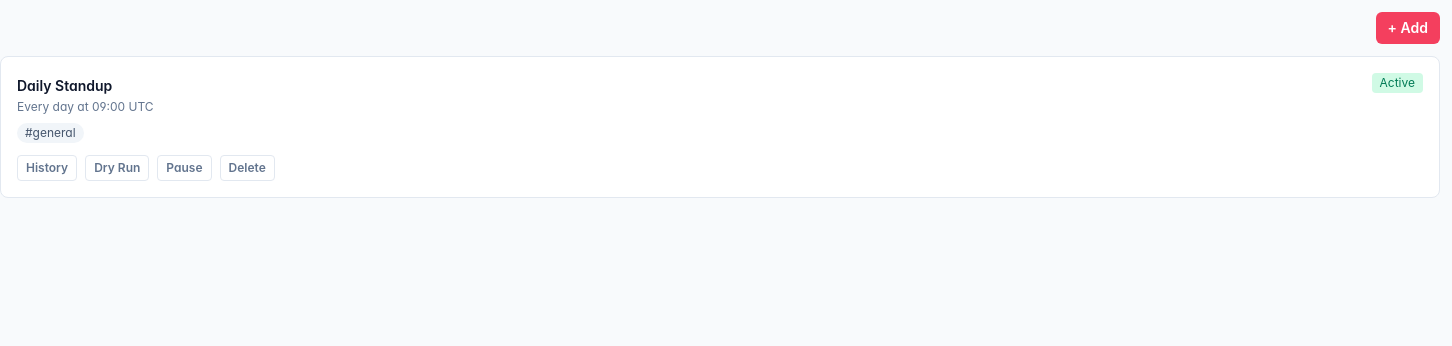
AutomationsSection › opens the history drawer when History button is clicked
Expected: the text "History — Daily Standup" is not shown
What coordinates should you click on to do the following:
click the button with test id "history-button-auto-001"
I would click on:
 (47, 168)
Its box is x1=17 y1=155 x2=77 y2=181.
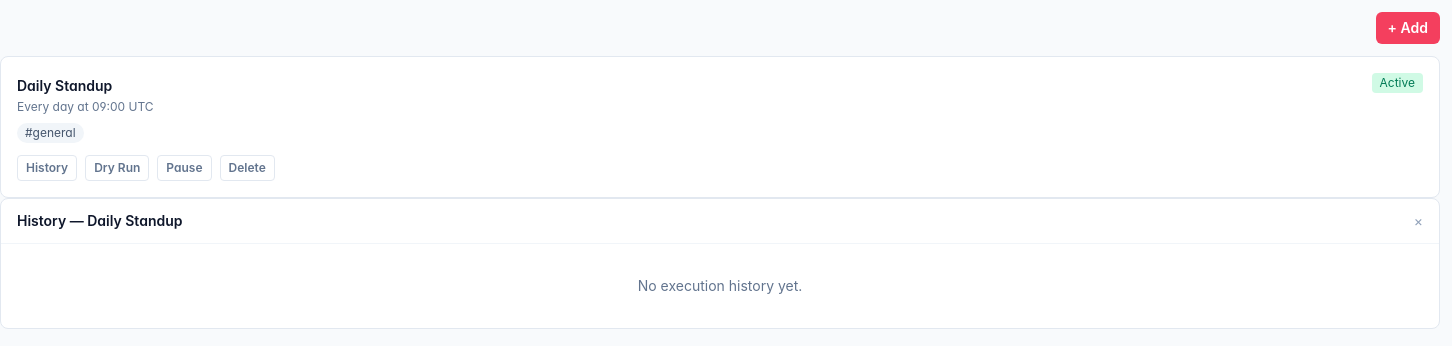
Expected: the heading "History — Daily Standup" is shown, x1=17 y1=211 x2=182 y2=231
